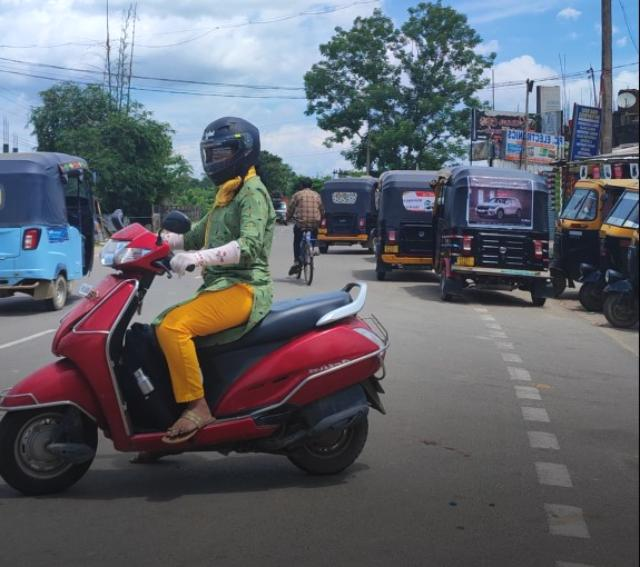motorcycle: (0, 110, 397, 491)
withHelmet: (192, 114, 265, 188)
